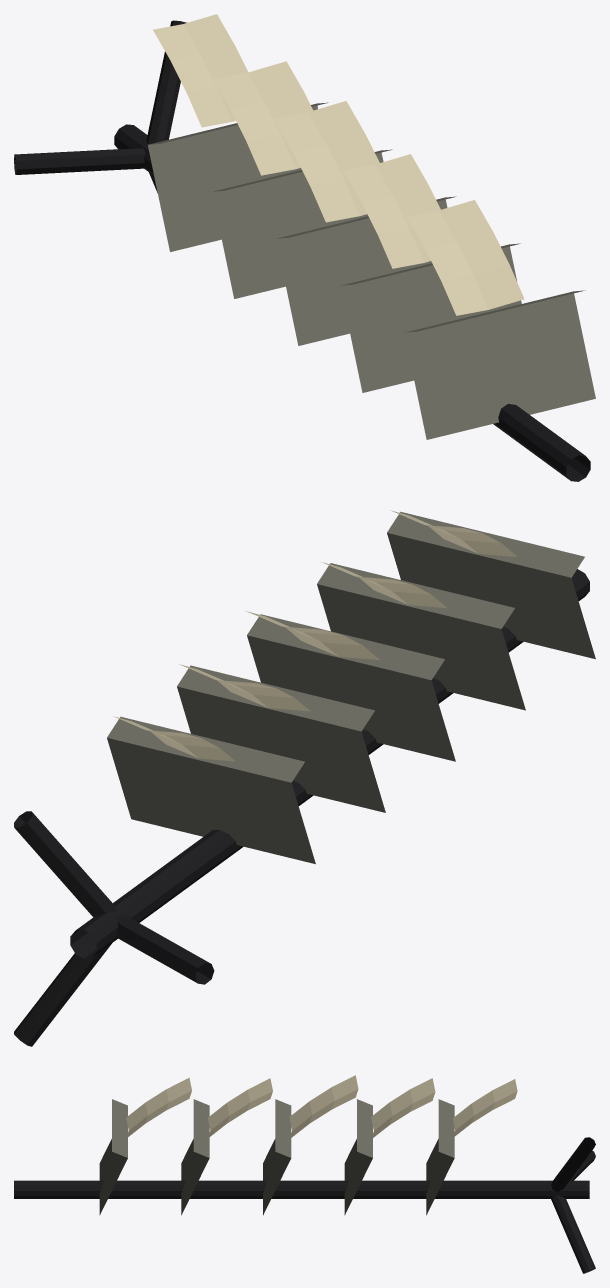
The model's file is VD_BrochureStand_Institutional.obj.
The picture shows the model from 3 angles, top to bottom: view 1: azimuth 30°, elevation 25°; view 2: azimuth 150°, elevation 25°; view 3: azimuth 270°, elevation 25°; orthographic projection. The views are drawn at different scales.
Parts seen in each view (by area): view 1: VD_BrochureStand_Institutional; view 2: VD_BrochureStand_Institutional; view 3: VD_BrochureStand_Institutional.
Part boxes in pixels (x1,y1,x2,y2): VD_BrochureStand_Institutional: [14, 14, 595, 481]; VD_BrochureStand_Institutional: [14, 510, 595, 1046]; VD_BrochureStand_Institutional: [14, 1075, 595, 1273].
Bounding box in the file's own units: 37.71 × 48.6 × 150.
